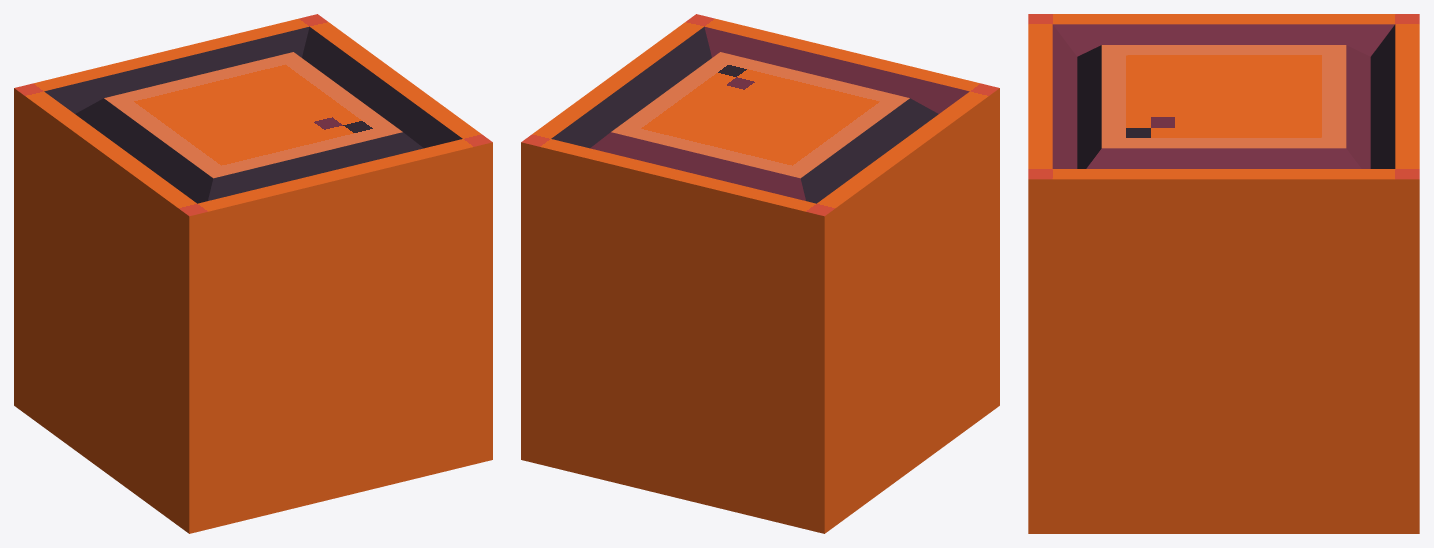
Rendered from floor_orange.gltf.
3 renders of one model, left to right at view 1: azimuth 30°, elevation 25°; view 2: azimuth 150°, elevation 25°; view 3: azimuth 270°, elevation 25°, orthographic. The views are drawn at different scales.
Parts seen in each view (by area): view 1: cuboid; view 2: cuboid; view 3: cuboid.
Part boxes in pixels (left/top/right/bottom): cuboid: left=14, top=14, right=492, bottom=533; cuboid: left=521, top=14, right=999, bottom=533; cuboid: left=1028, top=14, right=1419, bottom=533.
Size of the model in its own units: 1 by 1 by 1.
Materials: 1 (1 with a texture image).
